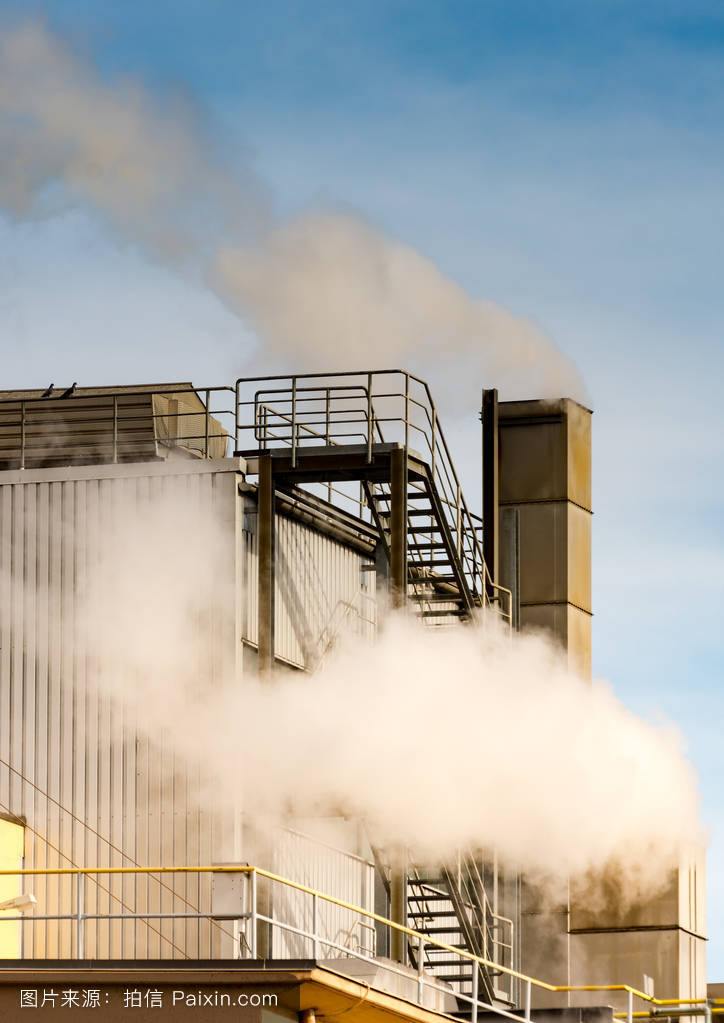dust: (199, 143, 613, 443)
